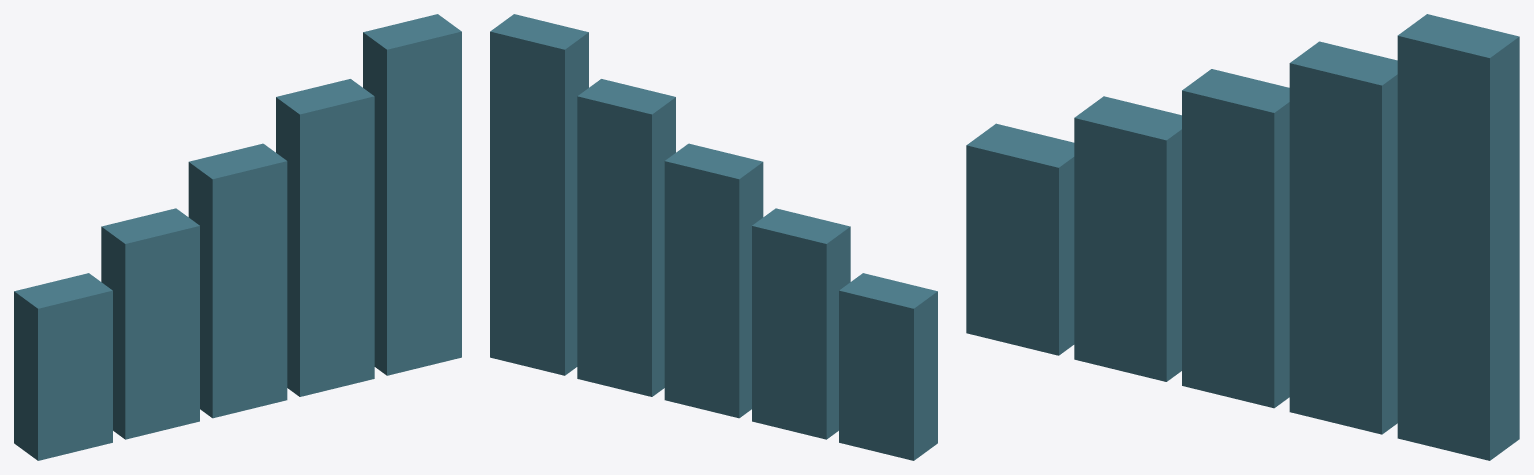
File: bh_waterfront_skyline_silhouette_01_lod0.glb
The picture shows the model from 3 angles, left to right: view 1: azimuth 30°, elevation 25°; view 2: azimuth 150°, elevation 25°; view 3: azimuth 330°, elevation 25°; orthographic projection. The views are drawn at different scales.
Parts seen in each view (by area): view 1: bh_waterfront_skyline_silhouette_01_mass_04, bh_waterfront_skyline_silhouette_01_mass_03, bh_waterfront_skyline_silhouette_01_mass_02, bh_waterfront_skyline_silhouette_01_mass_01, bh_waterfront_skyline_silhouette_01_mass_00; view 2: bh_waterfront_skyline_silhouette_01_mass_04, bh_waterfront_skyline_silhouette_01_mass_03, bh_waterfront_skyline_silhouette_01_mass_02, bh_waterfront_skyline_silhouette_01_mass_01, bh_waterfront_skyline_silhouette_01_mass_00; view 3: bh_waterfront_skyline_silhouette_01_mass_04, bh_waterfront_skyline_silhouette_01_mass_03, bh_waterfront_skyline_silhouette_01_mass_02, bh_waterfront_skyline_silhouette_01_mass_01, bh_waterfront_skyline_silhouette_01_mass_00.
Boxes of the visible parts, x1,y1,x2,y2 form: bh_waterfront_skyline_silhouette_01_mass_04: (363,14,461,375); bh_waterfront_skyline_silhouette_01_mass_03: (276,79,374,396); bh_waterfront_skyline_silhouette_01_mass_02: (188,143,287,418); bh_waterfront_skyline_silhouette_01_mass_01: (101,208,199,439); bh_waterfront_skyline_silhouette_01_mass_00: (14,273,112,460); bh_waterfront_skyline_silhouette_01_mass_04: (490,14,588,375); bh_waterfront_skyline_silhouette_01_mass_03: (577,79,675,396); bh_waterfront_skyline_silhouette_01_mass_02: (664,143,763,418); bh_waterfront_skyline_silhouette_01_mass_01: (752,208,850,439); bh_waterfront_skyline_silhouette_01_mass_00: (839,273,937,460); bh_waterfront_skyline_silhouette_01_mass_04: (1397,14,1519,460); bh_waterfront_skyline_silhouette_01_mass_03: (1289,41,1397,434); bh_waterfront_skyline_silhouette_01_mass_02: (1182,69,1289,408); bh_waterfront_skyline_silhouette_01_mass_01: (1074,96,1181,381); bh_waterfront_skyline_silhouette_01_mass_00: (966,123,1074,355).
Size of the model in its own units: 20.4 by 15 by 2.
